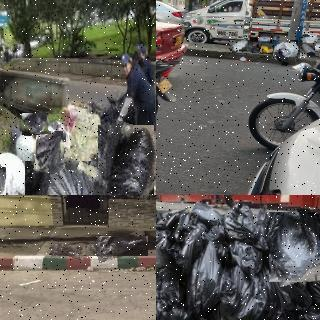Garbage: (91, 122, 156, 195), (188, 234, 242, 320), (18, 155, 124, 195), (264, 209, 320, 284), (156, 247, 182, 303), (95, 233, 149, 259), (35, 130, 65, 174), (271, 38, 300, 64), (22, 113, 48, 136), (49, 243, 85, 258), (86, 244, 111, 258), (230, 39, 249, 52), (0, 165, 7, 195), (300, 43, 315, 57), (302, 34, 317, 45), (248, 43, 262, 53), (261, 46, 274, 54), (313, 47, 320, 60), (314, 39, 320, 50)
